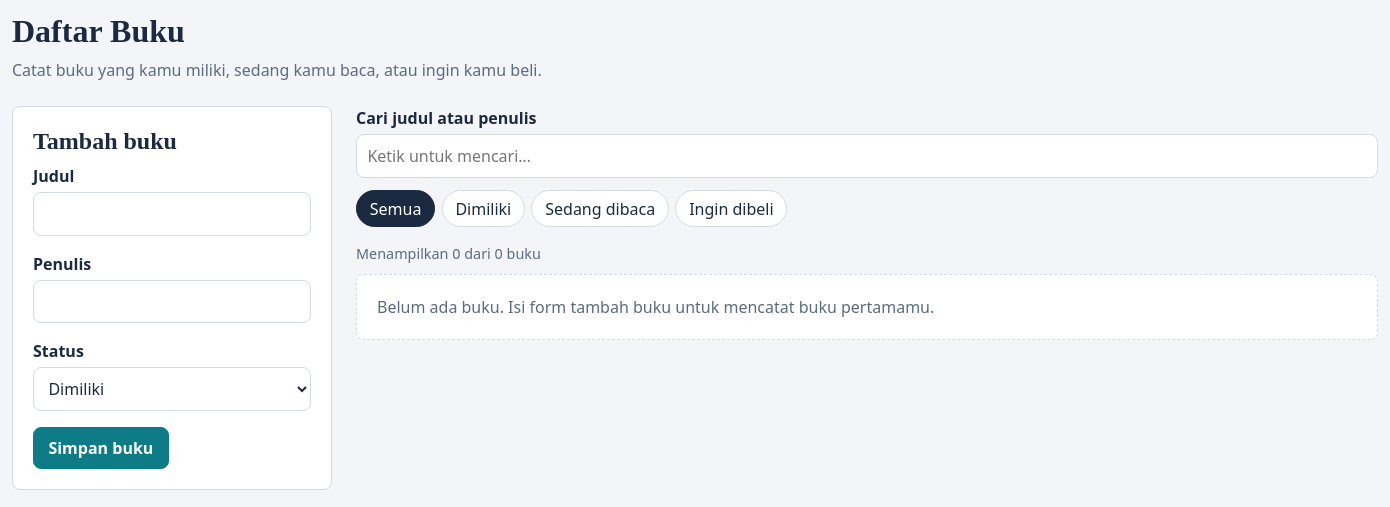
Test: Home (integrasi Context + localStorage) › mengedit dan menghapus buku
The width and height of the screenshot is (1390, 507).
Type "Bumi" into the field labelled "Judul" at x=172, y=214, box [33,192,311,236]
Type "Tere Liye" into the field labelled "Penulis" at x=172, y=302, box [33,280,311,323]
Select "Sedang dibaca" in the dropdown labelled "Status" at x=172, y=389, box [33,367,311,411]
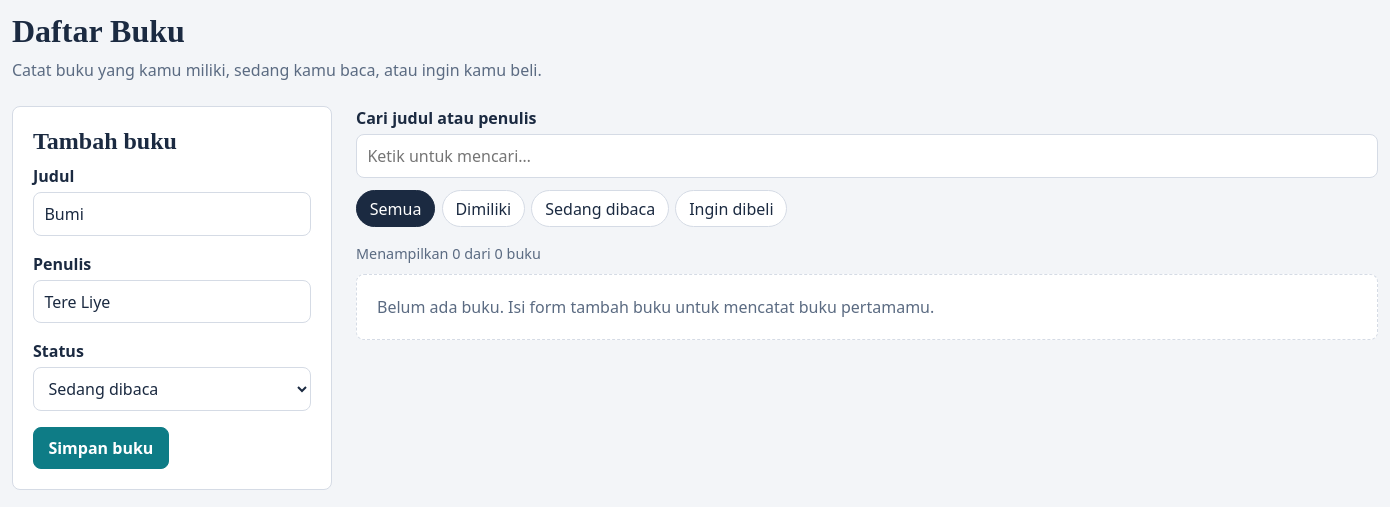
Click the button "Simpan buku" at x=101, y=448, box [33,427,169,469]
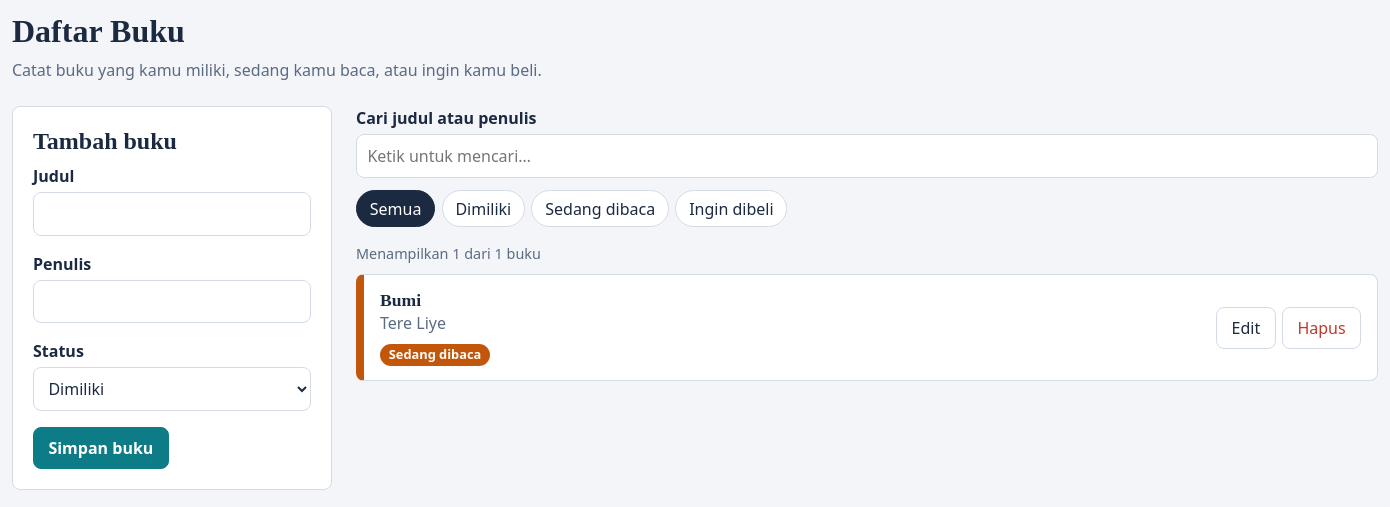
Click the button with aria-label "Edit Bumi" at x=1246, y=328, box [1216,307,1276,349]
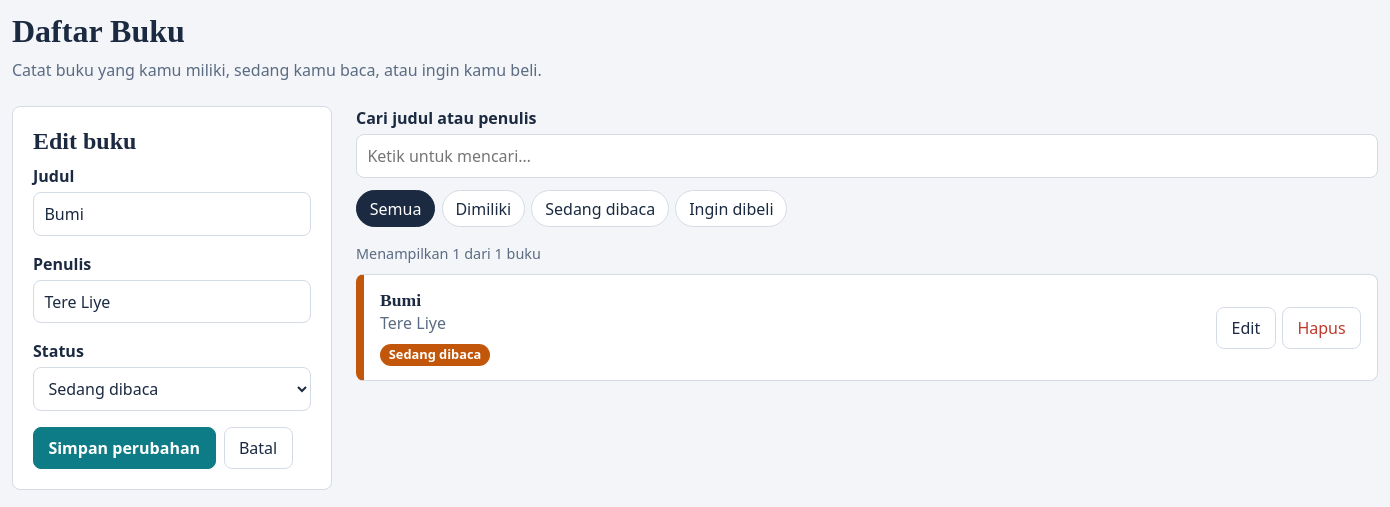
Replace the text in the field labelled "Judul" with "Bumi (Revisi)" at x=172, y=214, box [33,192,311,236]
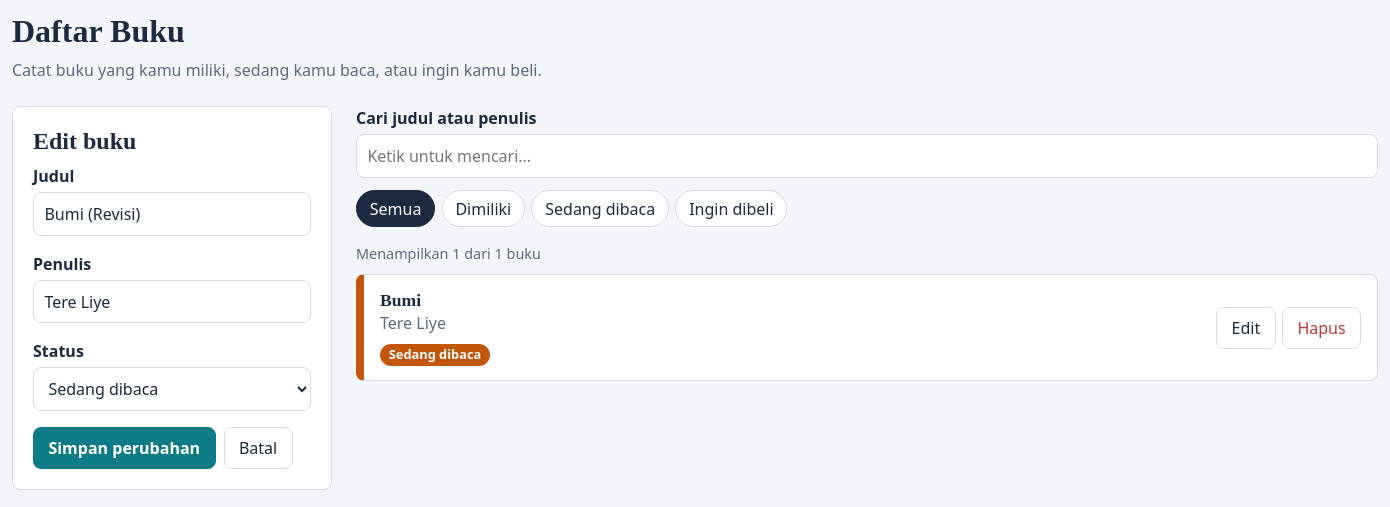
Click the button "Simpan perubahan" at x=124, y=448, box [33,427,216,469]
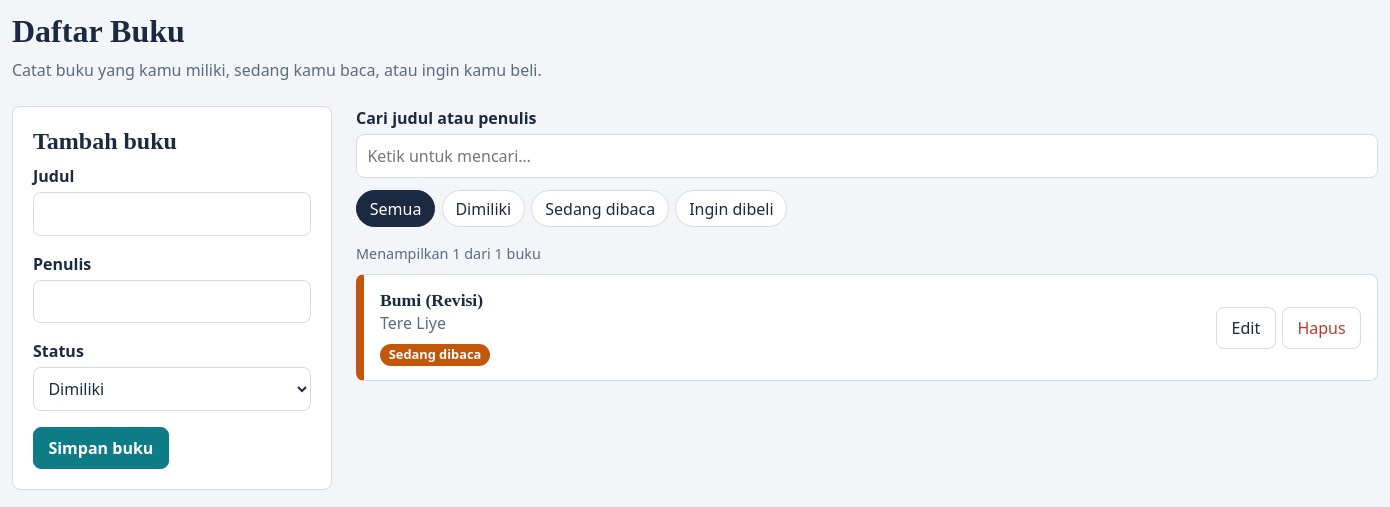
Result: the heading "Bumi (Revisi)" is shown at [380,290,490,311]
Click the button with aria-label "Hapus Bumi (Revisi)" at x=1322, y=328, box [1282,307,1361,349]
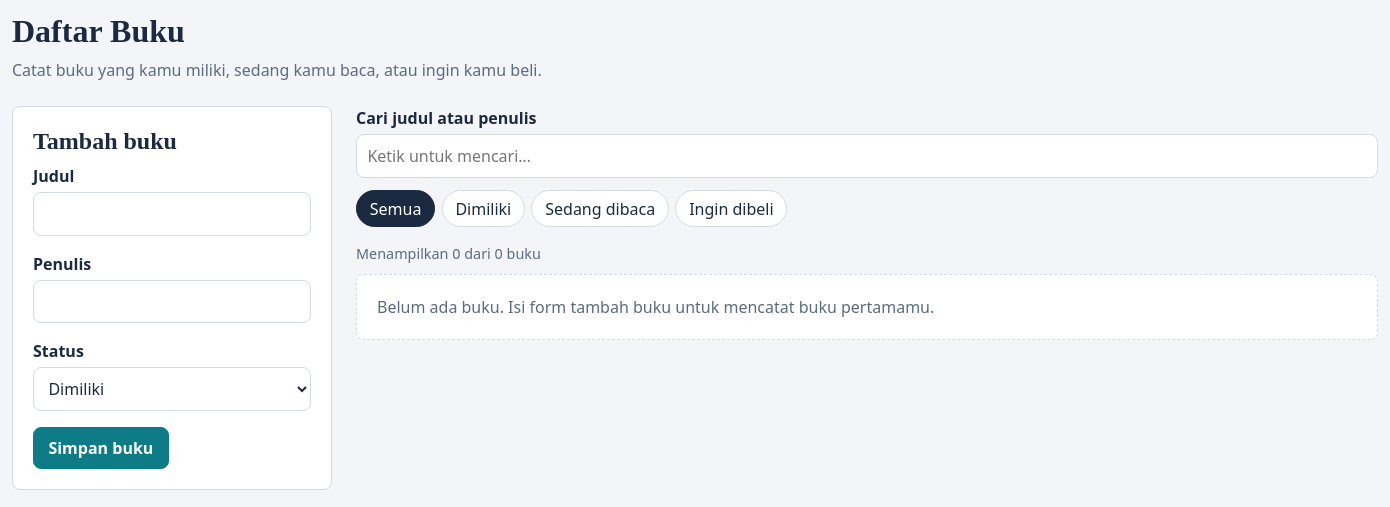
Result: the heading "Bumi (Revisi)" is gone
